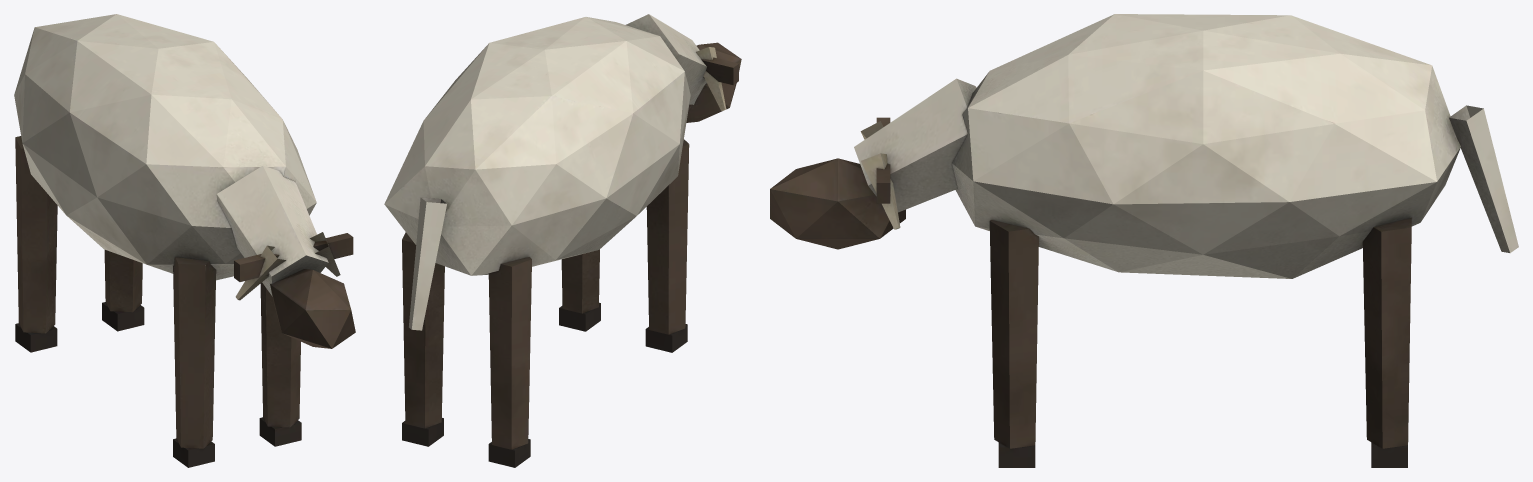
The model's file is herd-sheep-goat.glb.
3 views of the same model, side by side, from view 1: azimuth 30°, elevation 25°; view 2: azimuth 150°, elevation 25°; view 3: azimuth 270°, elevation 25° (orthographic). The views are drawn at different scales.
Parts seen in each view (by area): view 1: LOD0; view 2: LOD0; view 3: LOD0.
Part boxes in pixels (bbox=[...]): LOD0: bbox=[14, 14, 355, 467]; LOD0: bbox=[384, 14, 741, 467]; LOD0: bbox=[770, 14, 1518, 467].
Size of what is drawn, in the model's own units: 0.0479 by 0.0784 by 0.1315.
Materials: 1 (1 with a texture image).
